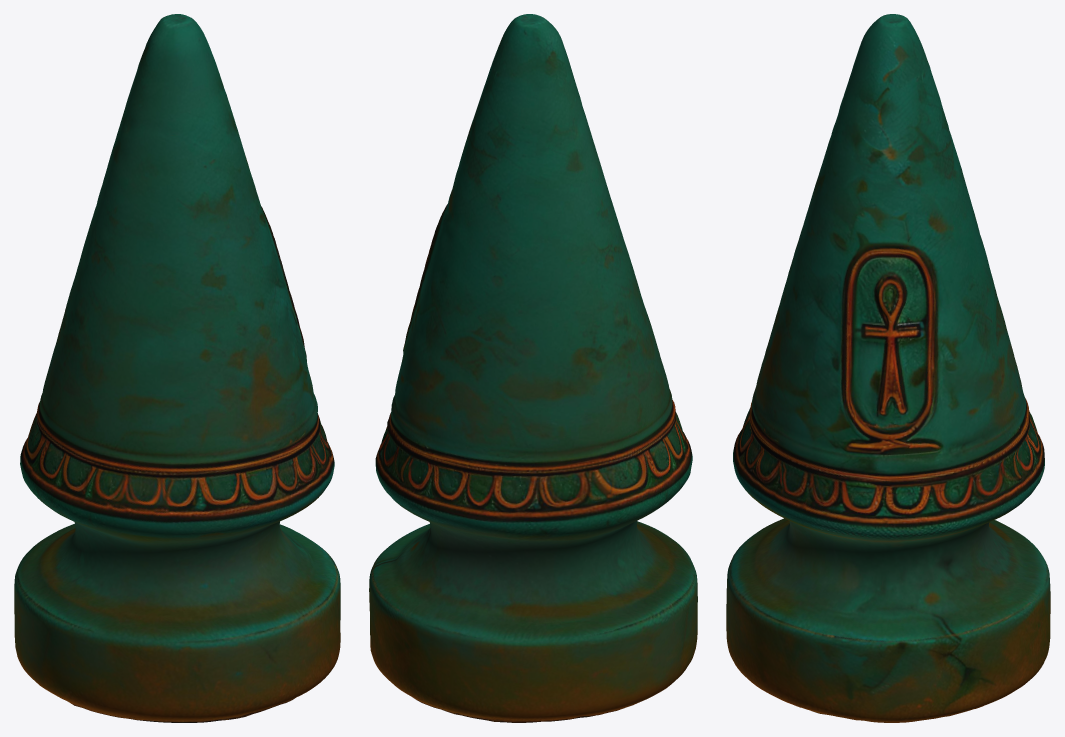
File: Item1.fbx
The picture shows the model from 3 angles, left to right: view 1: azimuth 30°, elevation 25°; view 2: azimuth 150°, elevation 25°; view 3: azimuth 270°, elevation 25°; orthographic projection.
Parts seen in each view (by area): view 1: tripo_node_009f9e85; view 2: tripo_node_009f9e85; view 3: tripo_node_009f9e85.
Part boxes in pixels (x1,y1,x2,y2): tripo_node_009f9e85: (14,14,340,722); tripo_node_009f9e85: (369,14,697,722); tripo_node_009f9e85: (726,14,1050,722).
Bounding box in the file's own units: 46.13 × 99.98 × 45.7.
1 material, 1 textured.
